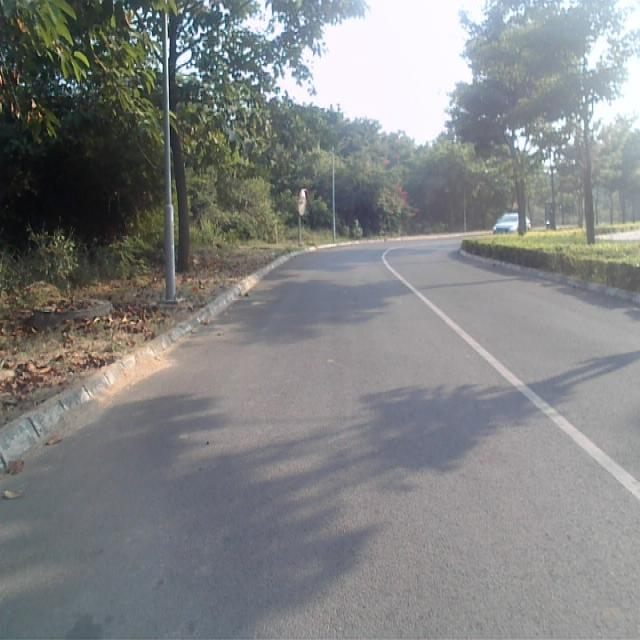lane: (0, 245, 640, 640)
